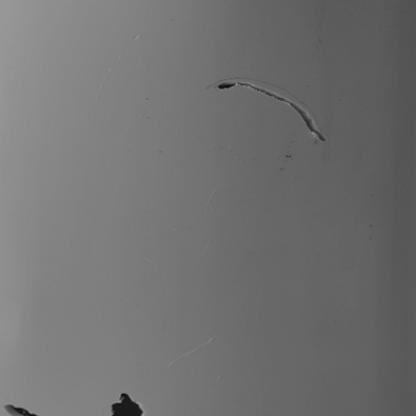fengxi: (216, 79, 328, 143), (5, 404, 40, 416)
kongdong: (111, 391, 144, 416)
